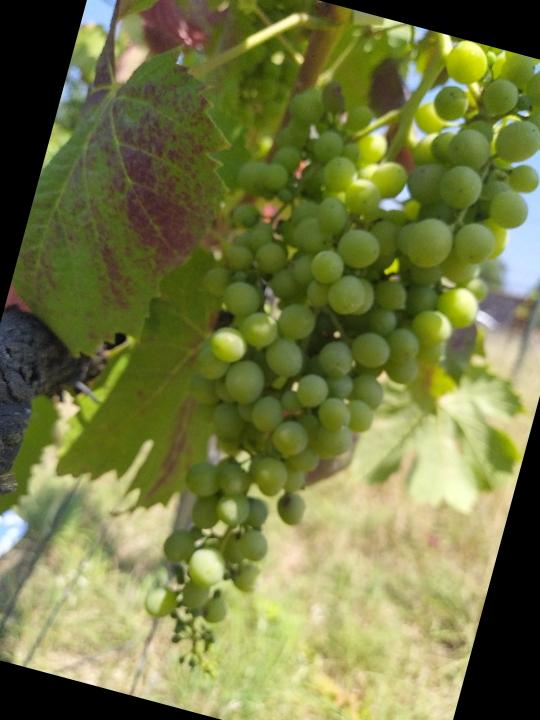grape: (95, 0, 540, 720)
